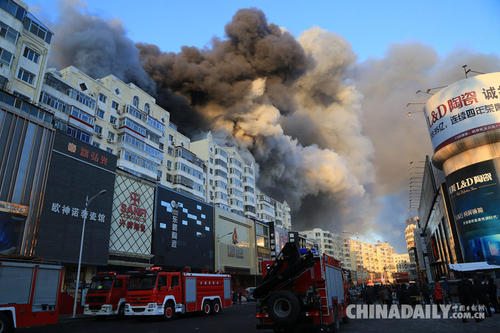smoke: (155, 27, 440, 209)
